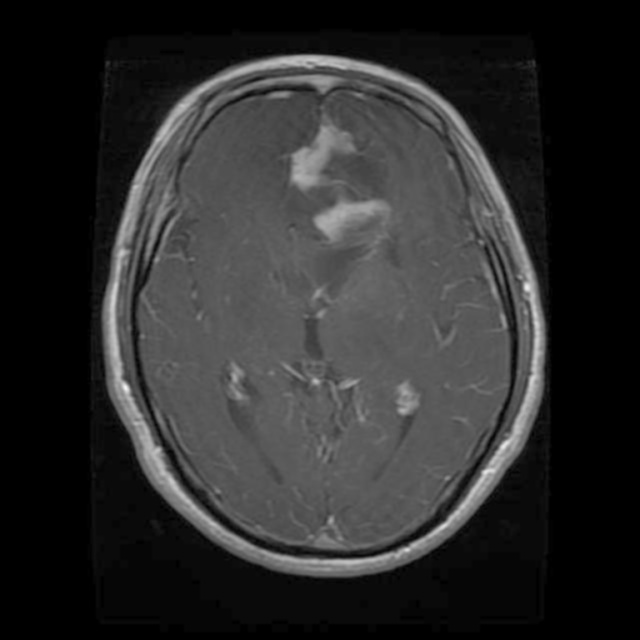pituitary tumor: (290, 121, 380, 238)
